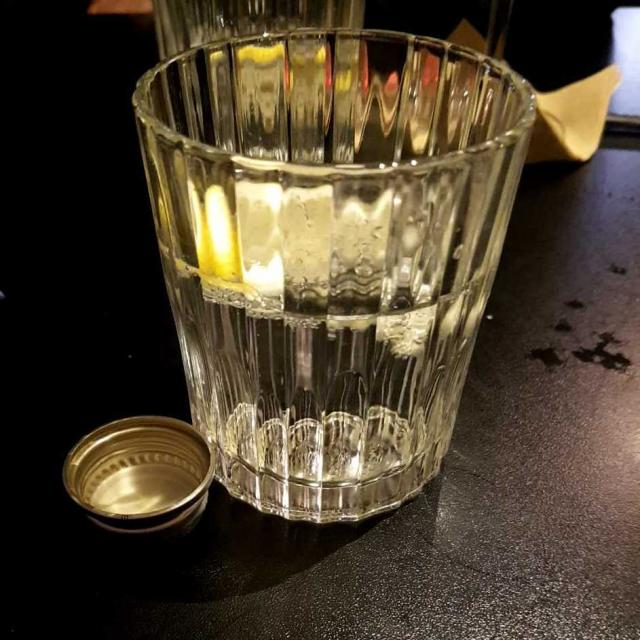lemon: (198, 181, 395, 294)
water-mineral: (168, 166, 494, 482)
